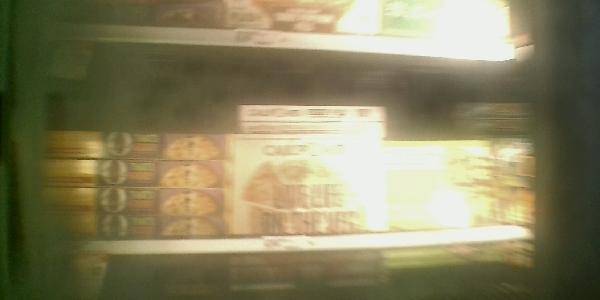pizza: (233, 133, 381, 233), (387, 141, 531, 226), (235, 104, 385, 123), (235, 117, 385, 132)
pizza1: (35, 160, 227, 188), (36, 187, 226, 215), (37, 130, 230, 156), (36, 214, 229, 238)
